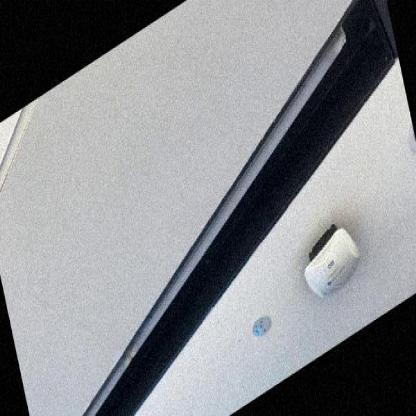light_off: (15, 9, 397, 414)
